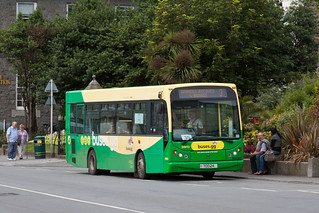bus: (61, 81, 244, 179)
